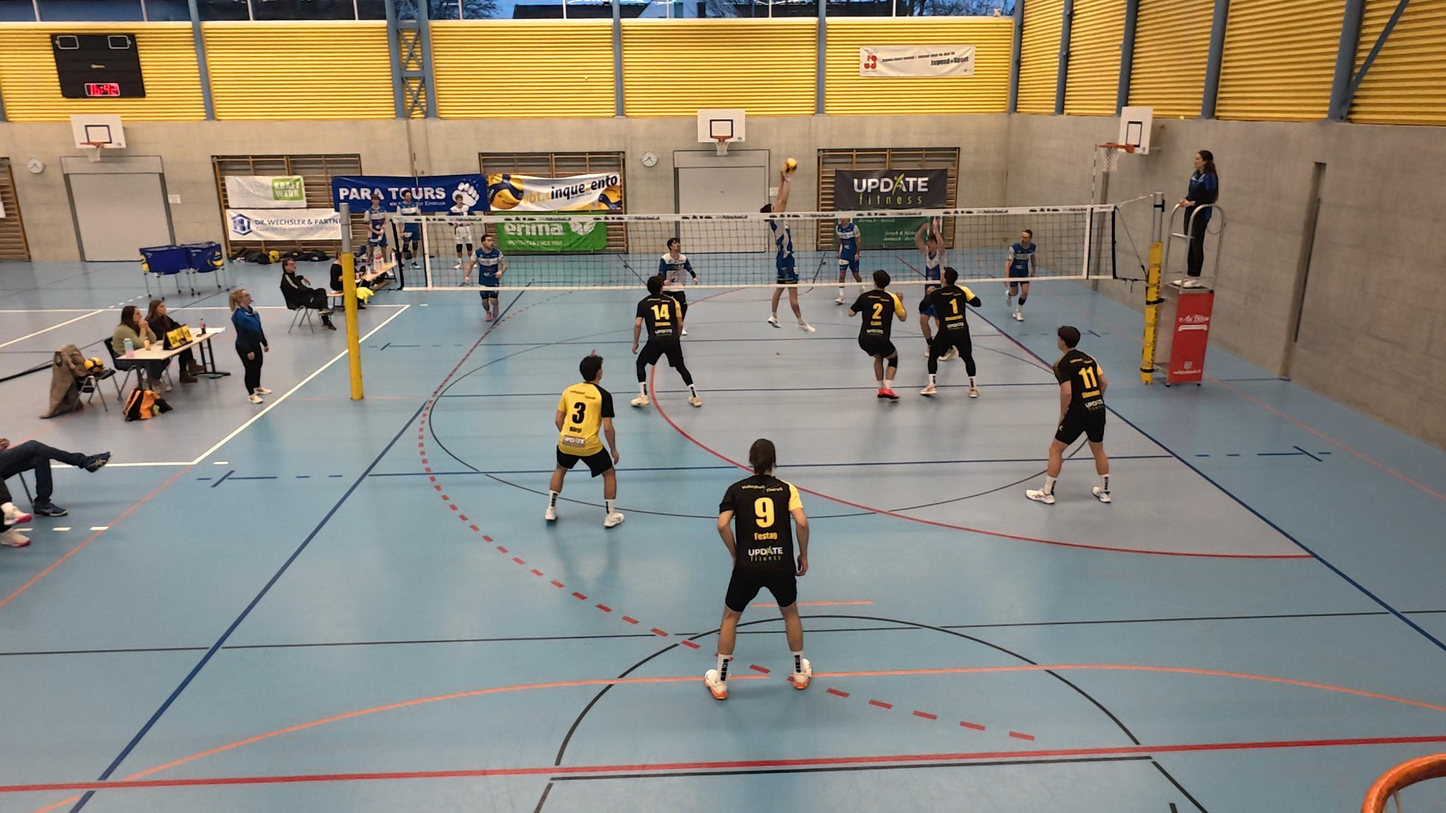muro: (761, 170, 818, 336)
